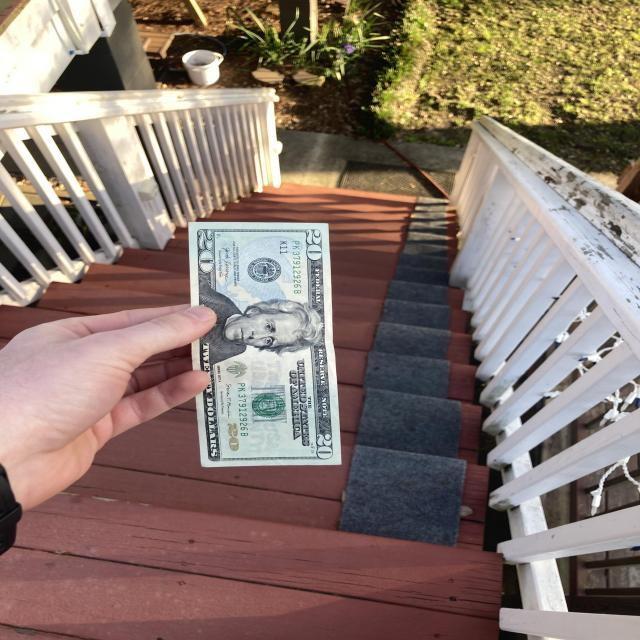twenty: (188, 221, 343, 467)
